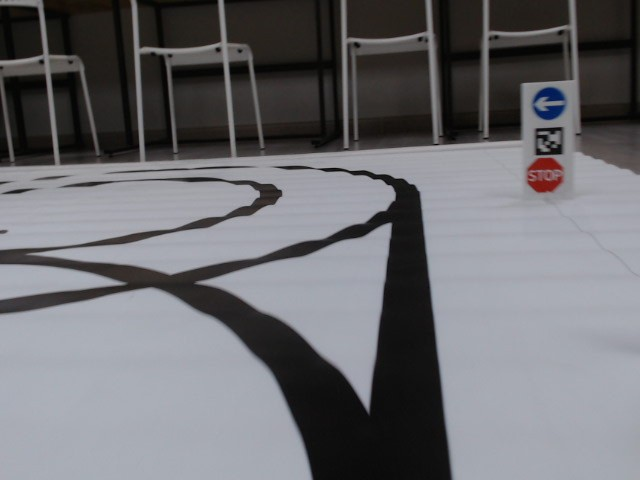Stop: (524, 158, 564, 194)
